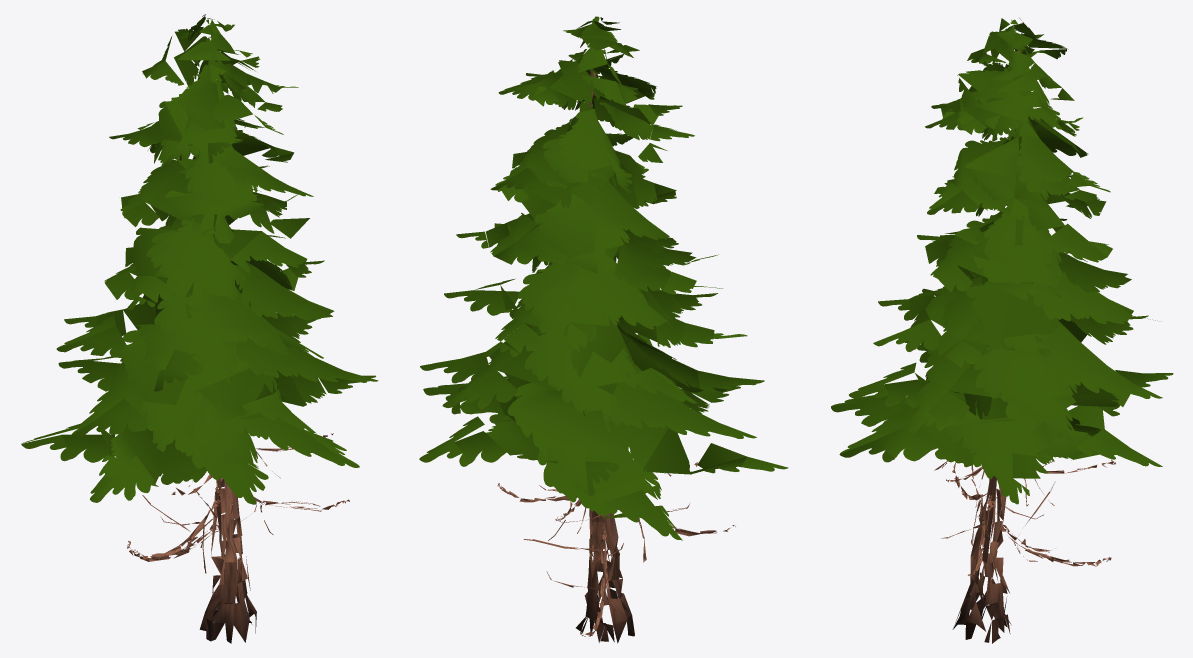
File: pinus-2.glb
3 renders of one model, left to right at view 1: azimuth 30°, elevation 25°; view 2: azimuth 150°, elevation 25°; view 3: azimuth 270°, elevation 25°, orthographic. The views are drawn at different scales.
Parts seen in each view (by area): view 1: Pine_4; view 2: Pine_4; view 3: Pine_4.
Boxes of the visible parts, left/top/right/bottom form: Pine_4: left=21, top=14, right=378, bottom=643; Pine_4: left=419, top=16, right=788, bottom=643; Pine_4: left=831, top=18, right=1173, bottom=643.
Bounding box in the file's own units: 6.8 × 12.03 × 6.3.
Materials: 2 (2 with a texture image).
